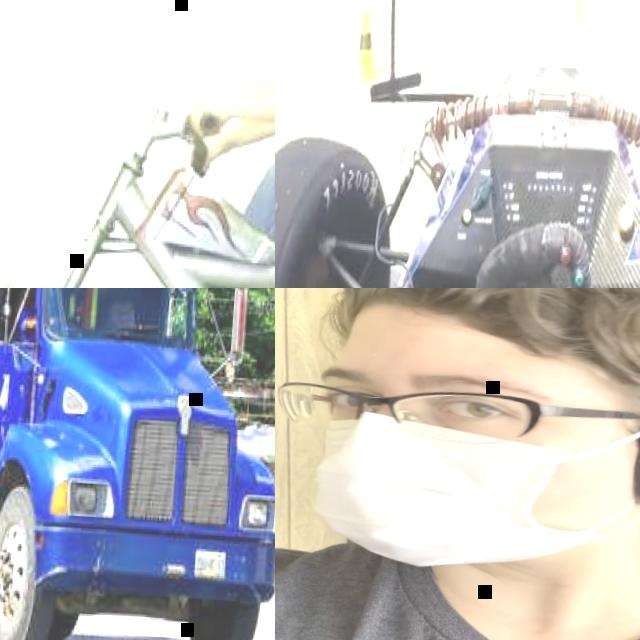Mask: (307, 405, 640, 585)
NO-Hardhat: (329, 288, 640, 393)
NO-Safety Vest: (275, 542, 640, 640)
Person: (275, 288, 640, 640), (163, 0, 275, 288)
Safety Cone: (346, 9, 386, 76), (560, 0, 595, 11)
machinery: (0, 288, 275, 640)
vehicle: (275, 0, 640, 288)
